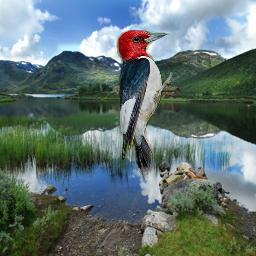Woodpecker: (114, 30, 178, 183)
